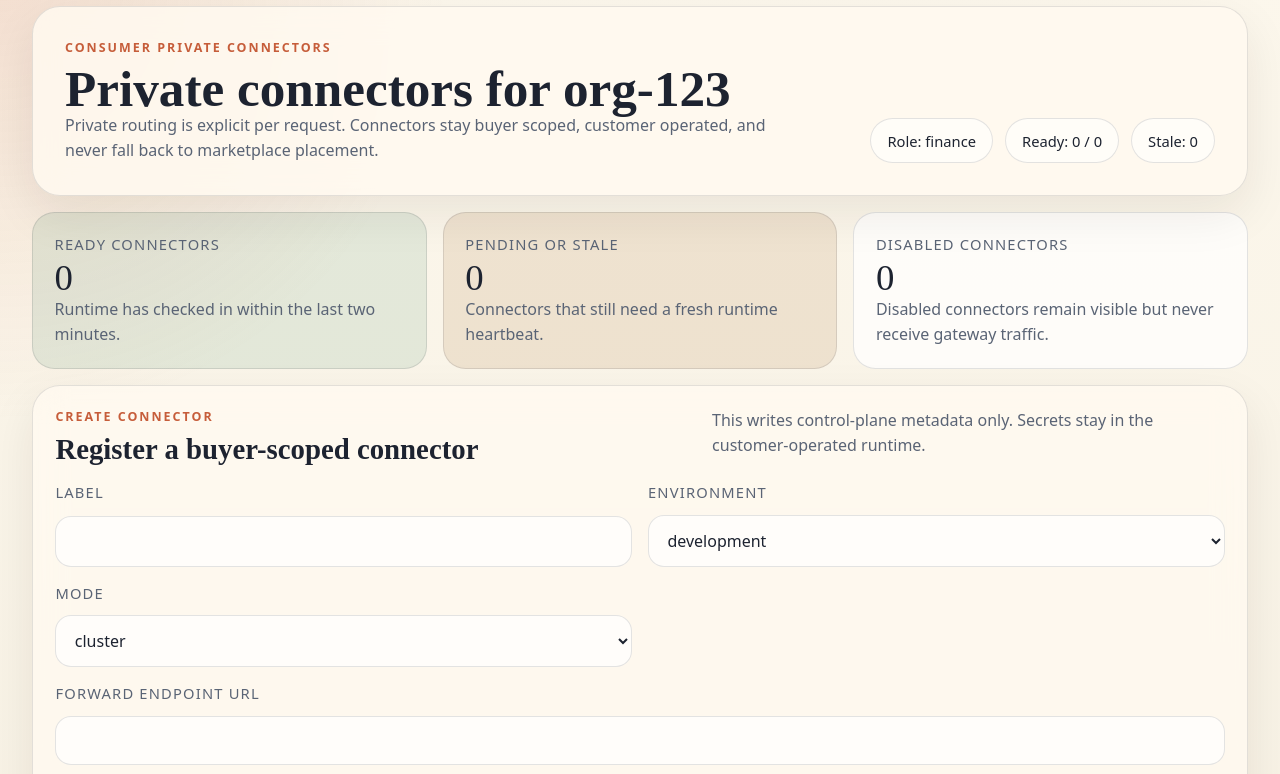
PrivateConnectorDashboardScreen › posts the create flow and refreshes the dashboard snapshot
Step 1. Type "Fresh connector" into the field named "Connector label" → (344, 541), box [55,516,632,567]
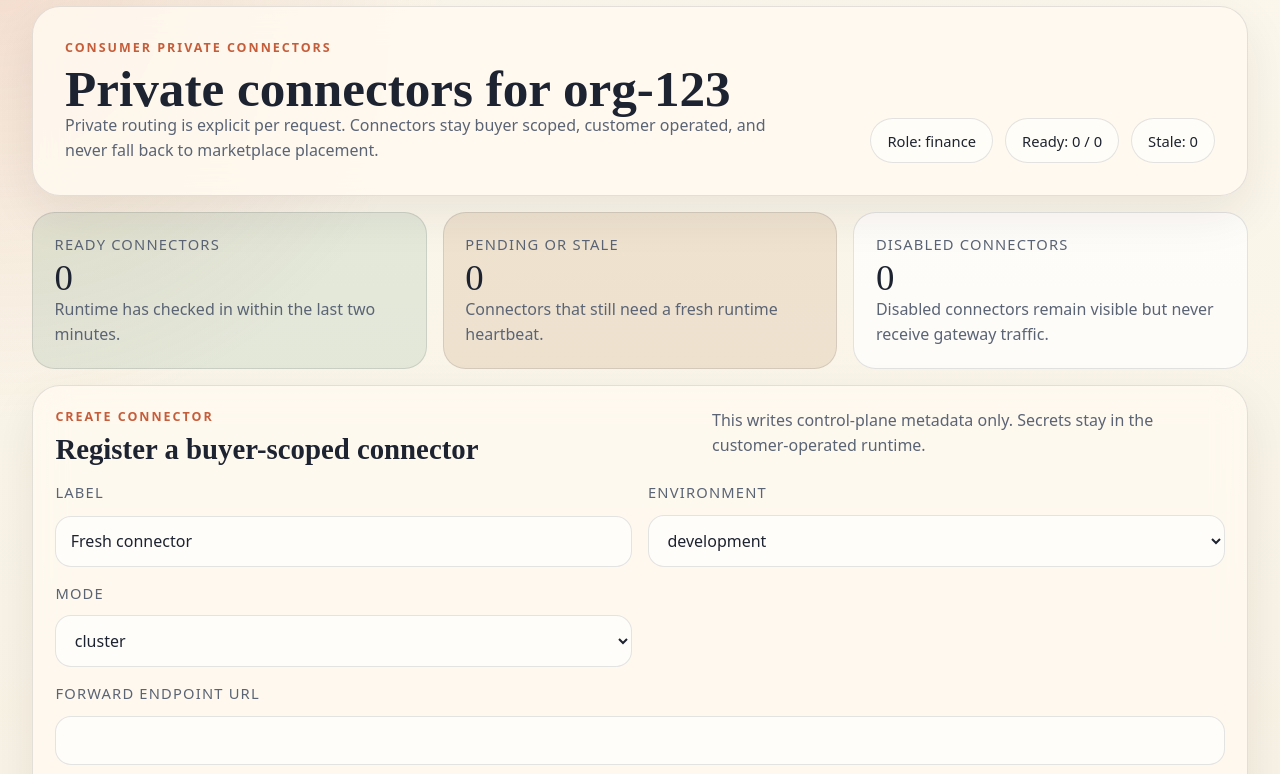
Step 2. Type "http://connector.internal" into the field named "Connector endpoint URL" → (640, 741), box [55,716,1225,765]
(page scrolled)
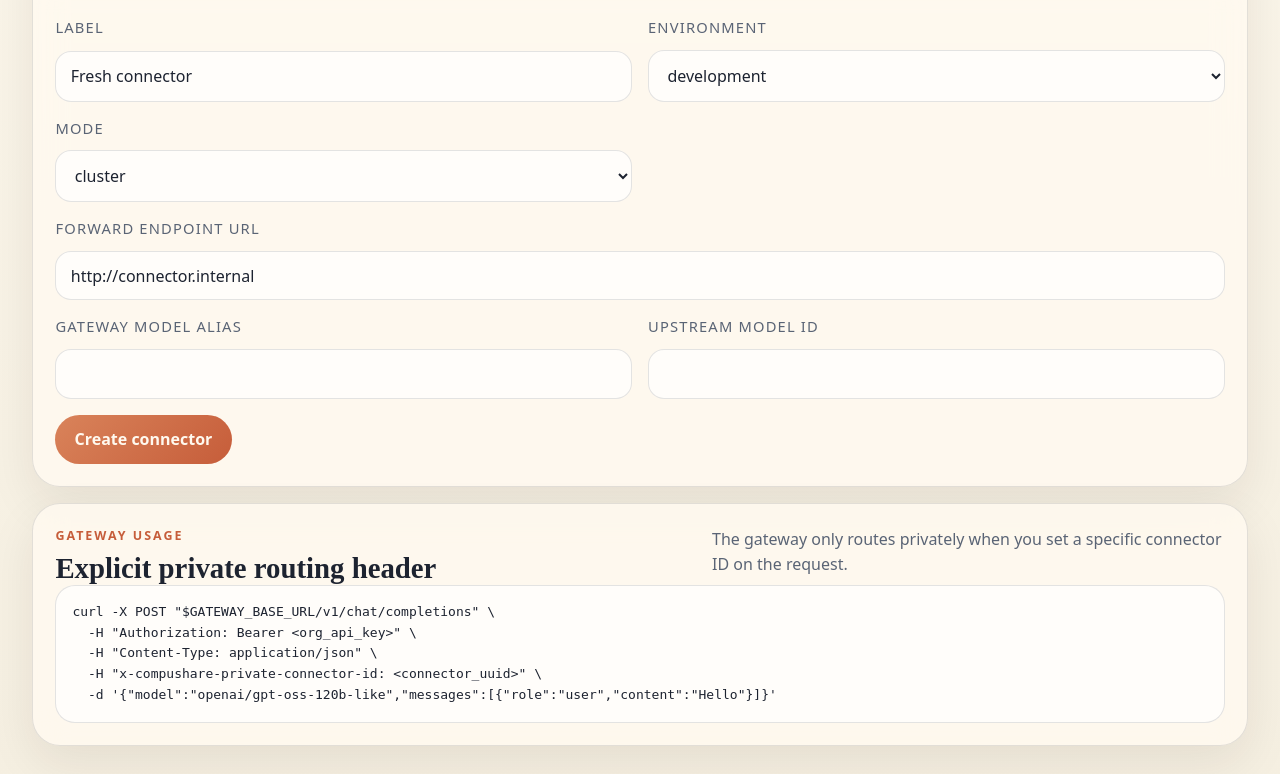
Step 3. Type "openai/gpt-oss-120b-like" into the field named "Connector request model alias" → (344, 374), box [55,349,632,399]
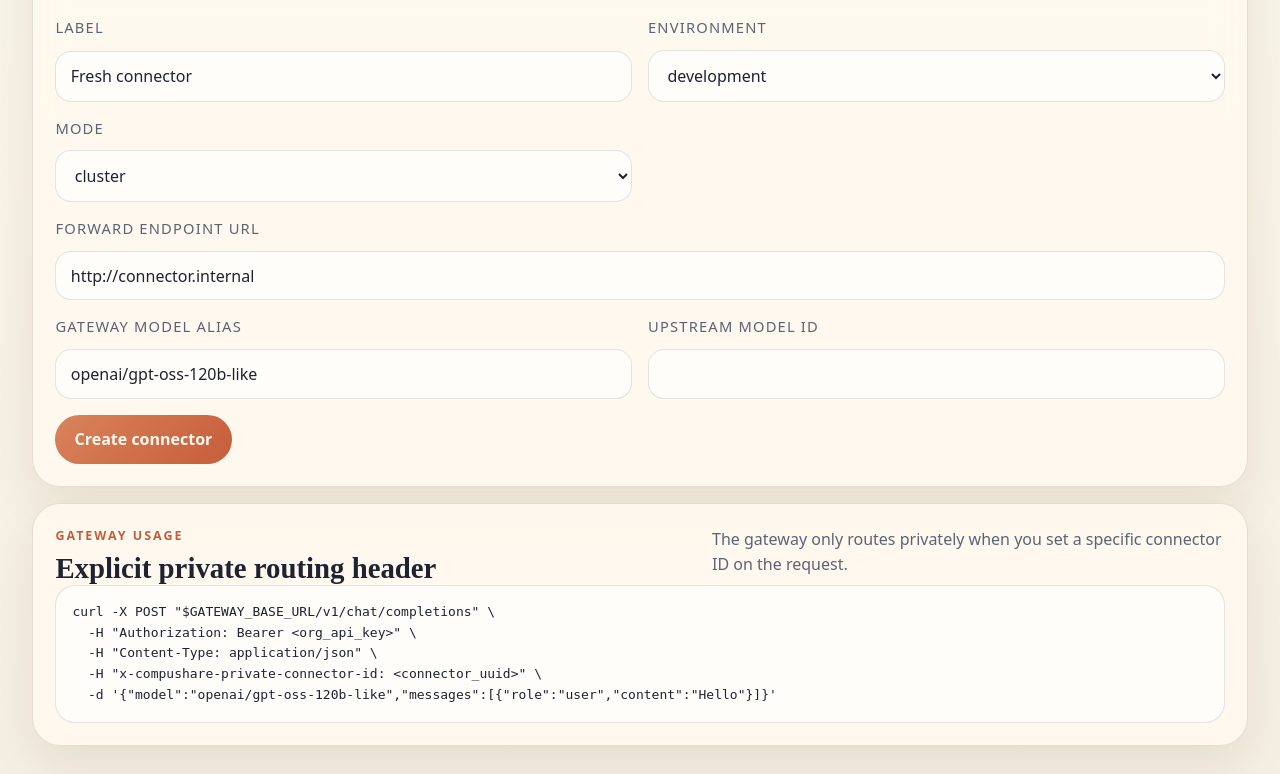
Step 4. Type "gpt-oss-120b-instruct" into the field named "Connector upstream model ID" → (936, 374), box [648,349,1225,399]
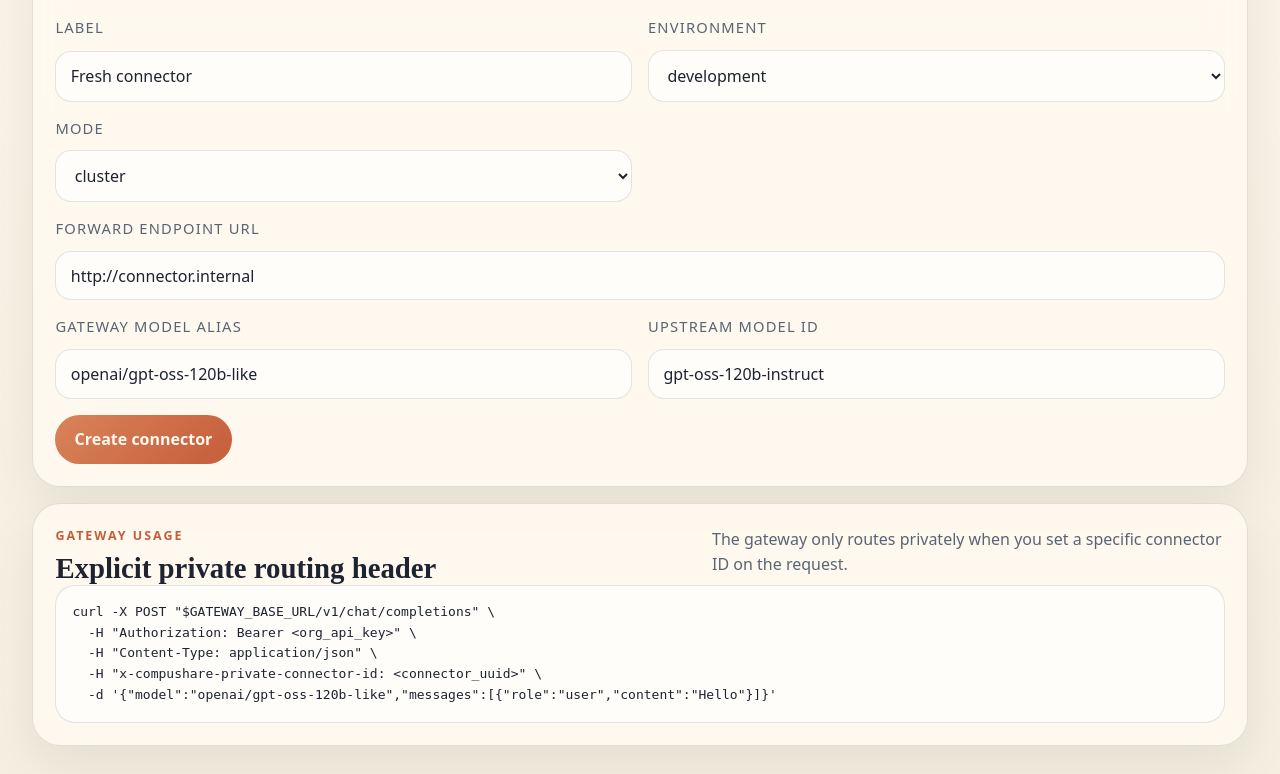
Step 5. Click the button "Create connector" → (143, 439), box [55,415,232,464]
(page scrolled)
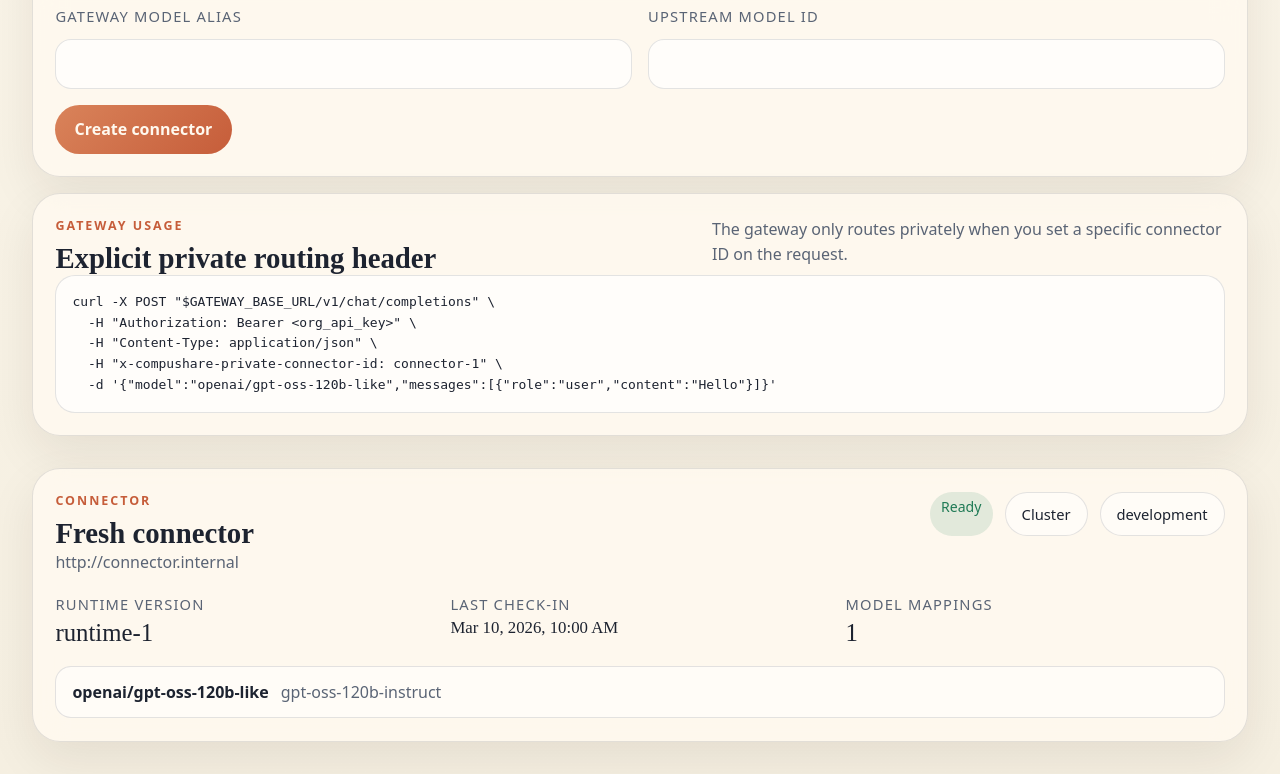
Expected: the heading "Fresh connector" is shown, [55,516,254,548]
